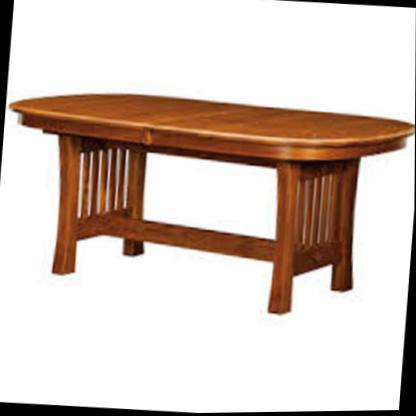Table: (0, 75, 416, 340)
